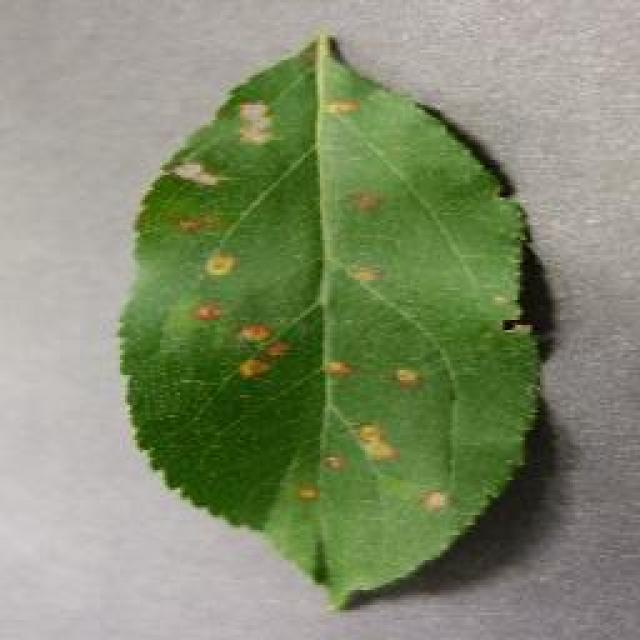Apple___Cedar_apple_rust: (109, 23, 547, 617)
